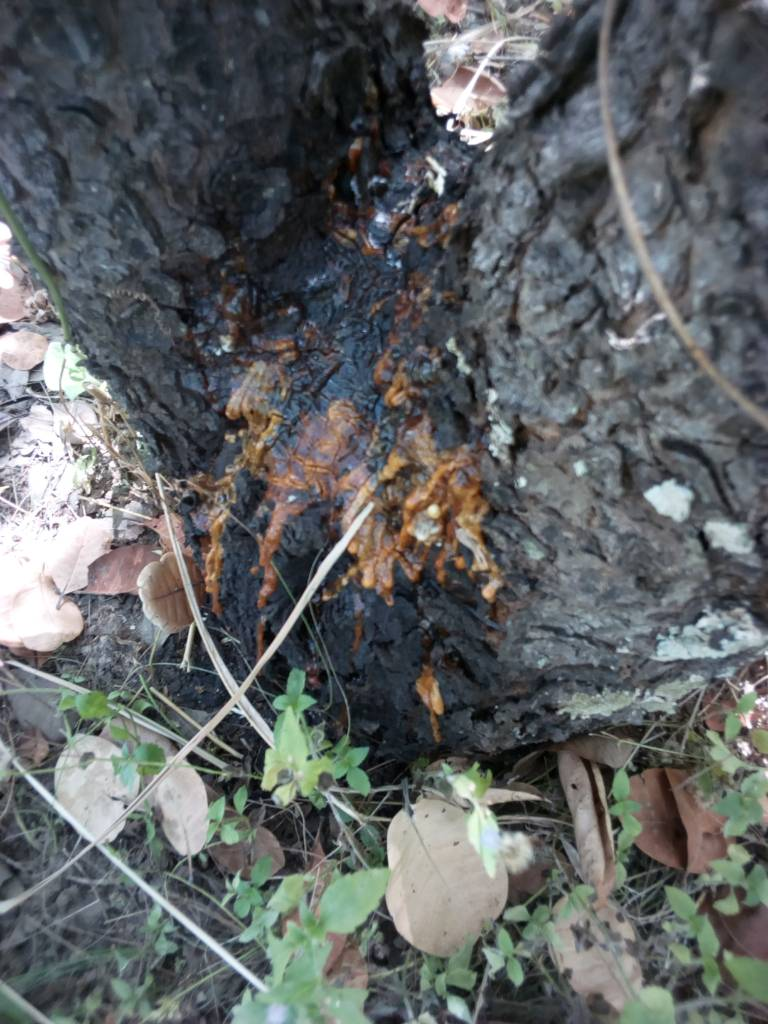Gommose: (180, 161, 477, 744)
